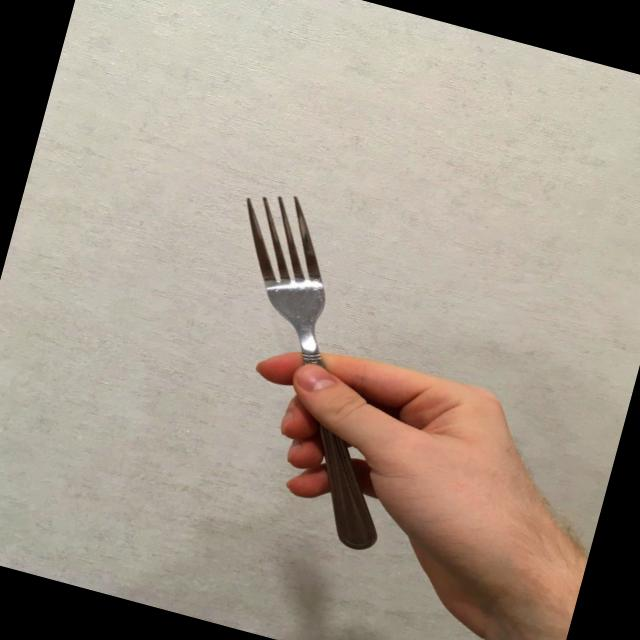fork: (165, 183, 459, 553)
